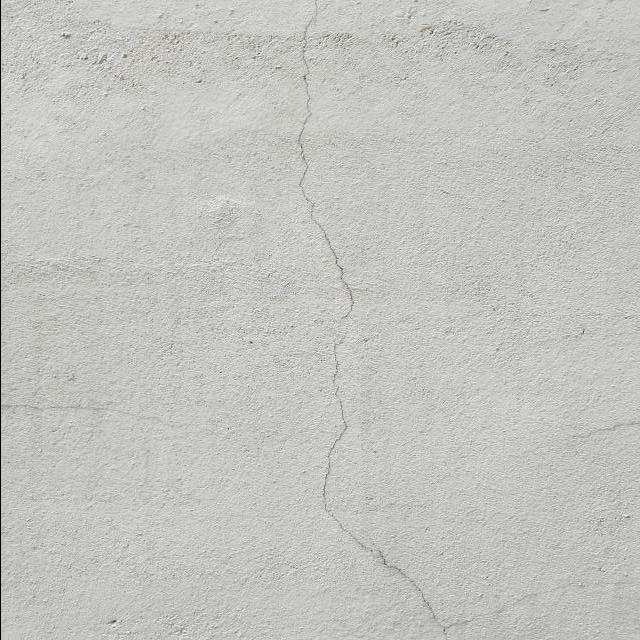SurfaceCrack: (259, 0, 504, 639)
